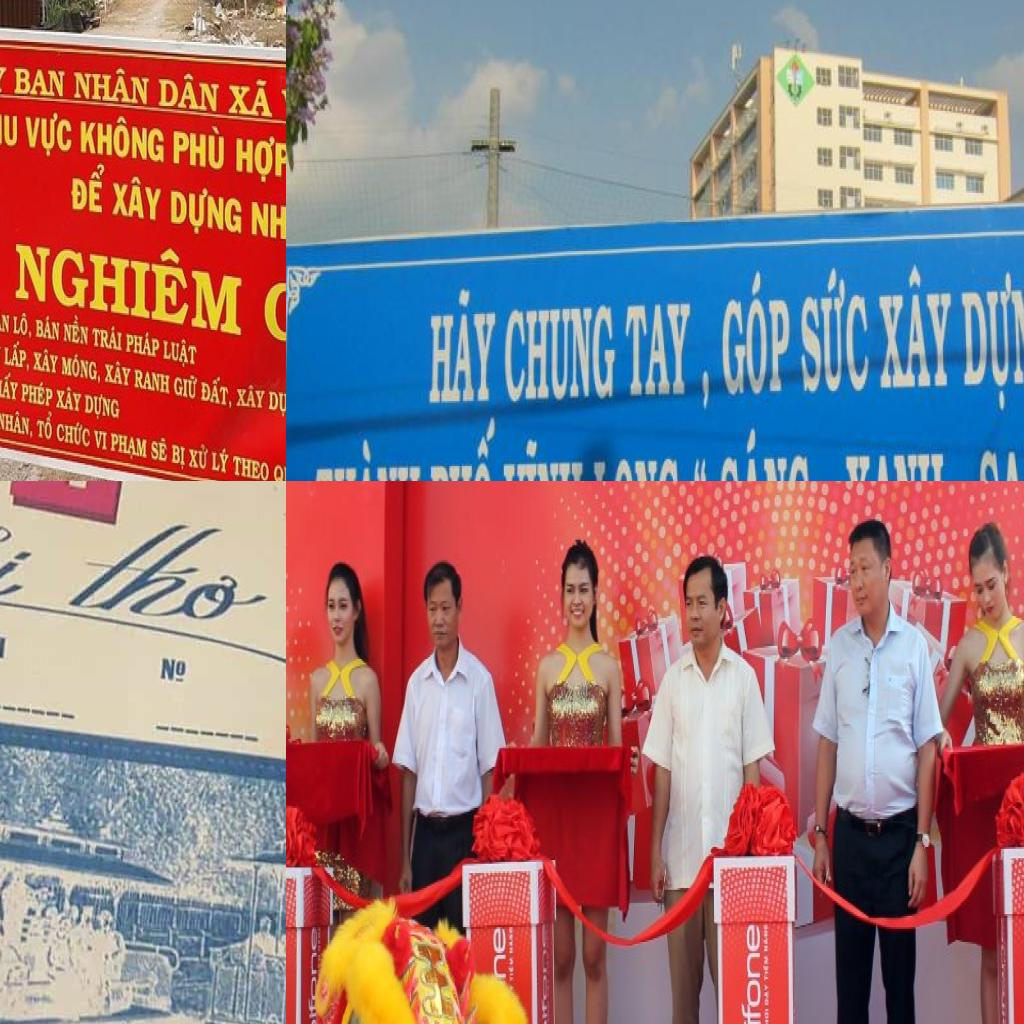text: (44, 510, 286, 638), (13, 220, 246, 342), (498, 297, 619, 408), (712, 266, 790, 408), (876, 258, 954, 398), (956, 258, 1024, 415), (798, 261, 872, 398), (423, 282, 499, 411), (618, 292, 691, 404), (0, 484, 65, 602), (716, 421, 813, 481), (309, 430, 419, 481), (78, 110, 166, 168), (420, 416, 497, 481), (168, 180, 244, 244), (501, 430, 584, 481), (838, 445, 950, 481), (591, 440, 682, 481), (72, 64, 152, 109), (110, 170, 165, 226), (172, 120, 227, 174), (156, 70, 221, 114), (234, 131, 286, 186), (22, 106, 74, 160), (738, 921, 765, 1024), (227, 72, 275, 123), (248, 188, 286, 245), (69, 162, 108, 217), (13, 64, 67, 101), (61, 349, 102, 387), (82, 389, 122, 424), (540, 923, 553, 1024), (162, 334, 198, 370), (124, 328, 162, 362), (200, 372, 233, 411), (0, 405, 34, 441), (134, 366, 172, 398), (110, 431, 148, 463), (56, 416, 92, 449), (20, 376, 55, 409), (231, 453, 271, 481), (308, 925, 319, 1024), (158, 654, 190, 688), (491, 923, 508, 987), (62, 312, 90, 350), (104, 355, 135, 389), (92, 322, 123, 354), (235, 380, 267, 411), (4, 340, 31, 376), (35, 310, 62, 345), (32, 344, 60, 377), (55, 384, 85, 414), (0, 106, 20, 150), (173, 370, 199, 402), (187, 440, 210, 473), (689, 443, 708, 481), (12, 308, 33, 342), (0, 368, 21, 402), (35, 409, 54, 443), (150, 432, 170, 464), (211, 444, 231, 476), (267, 387, 286, 420), (171, 441, 187, 473), (0, 50, 9, 97), (93, 428, 109, 453), (0, 304, 11, 336), (272, 461, 286, 481)
